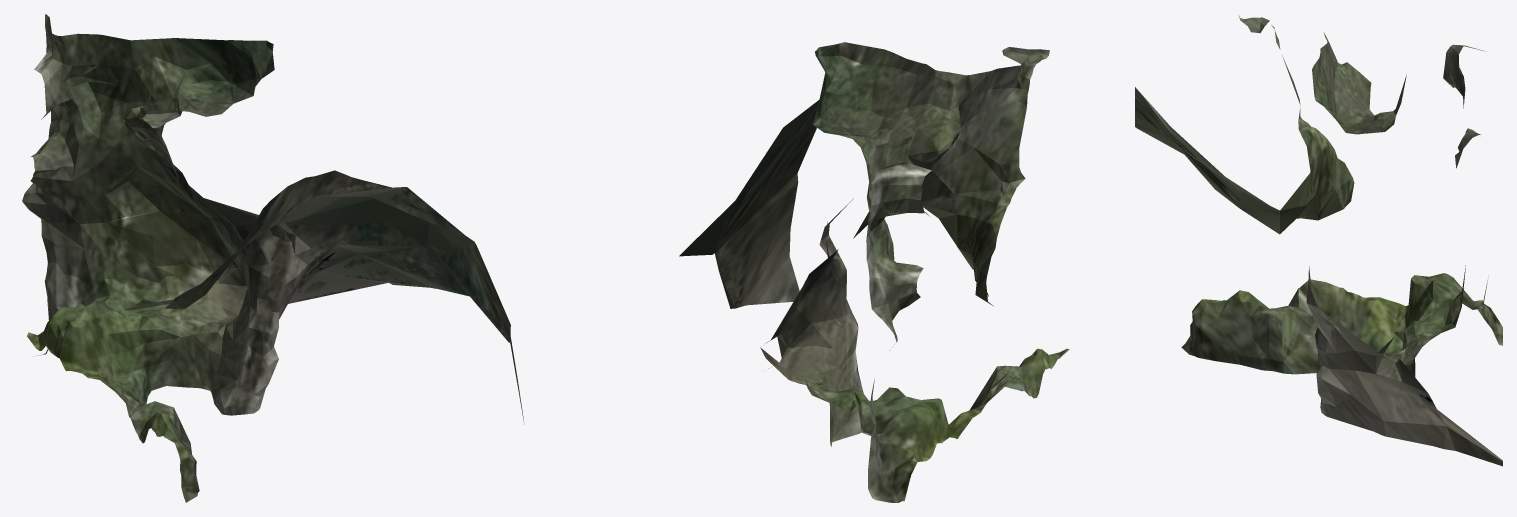
3 renders of one model, left to right at view 1: azimuth 30°, elevation 25°; view 2: azimuth 150°, elevation 25°; view 3: azimuth 270°, elevation 25°, orthographic. The views are drawn at different scales.
Bounding box in the file's own units: 5.9 × 5.9 × 5.9.
Materials: 5 (5 with a texture image).
